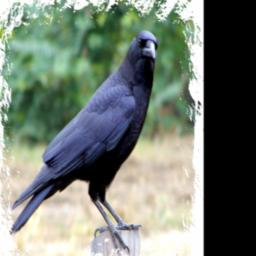Crow: (7, 29, 162, 256)
